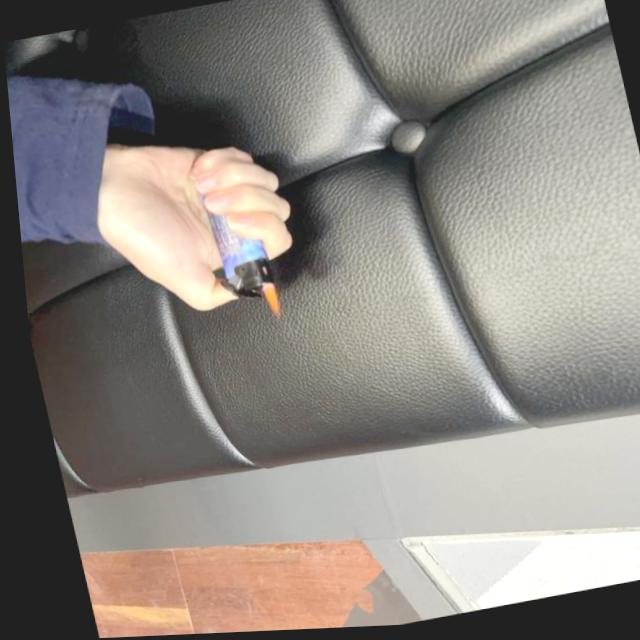Fire: (253, 281, 279, 321)
